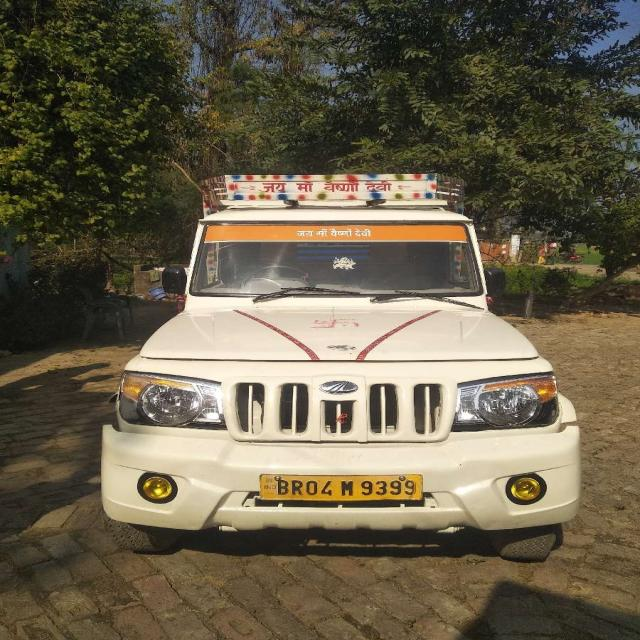light_vehicle: (91, 181, 585, 536)
